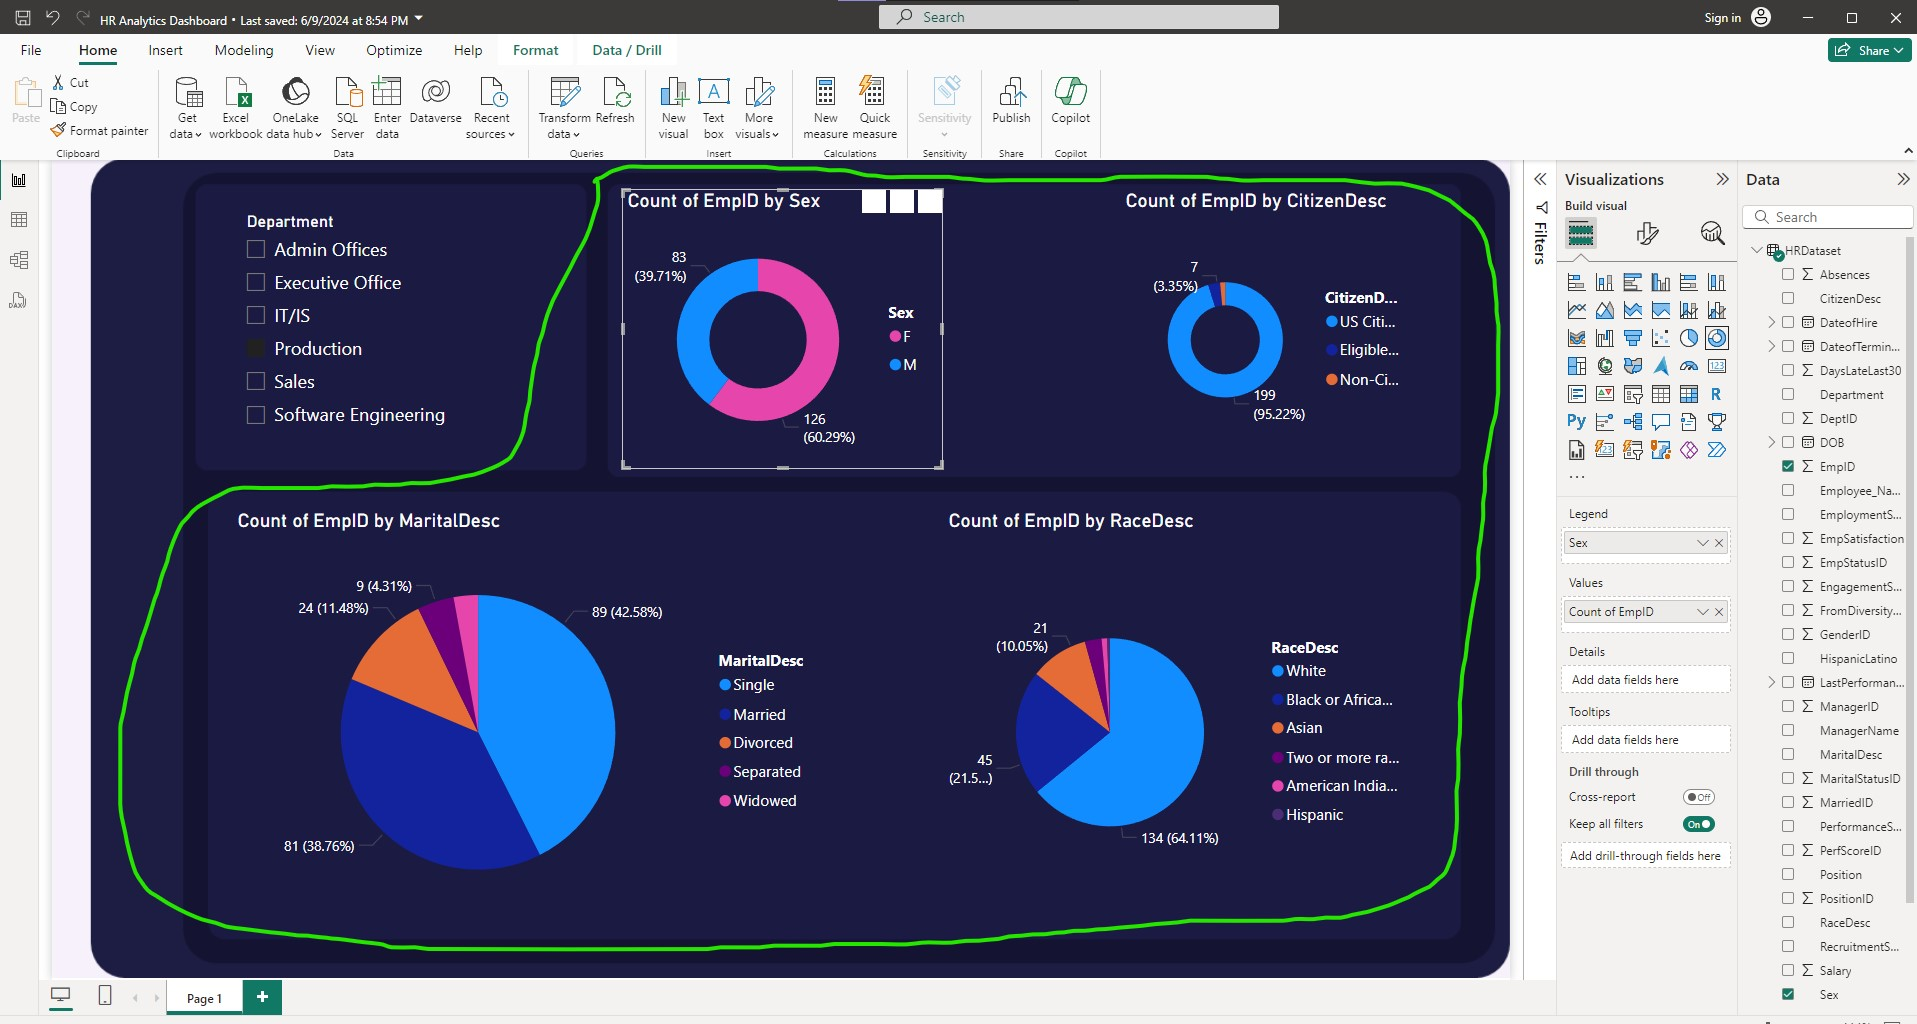

The page's visual inventory and layout, read from the dashboard file:
{"tool":"powerbi","page":{"name":"Page 1","canvas":[1280,720],"ordinal":0},"visuals":[{"type":"donutChart","fields":{"Y":["CountNonNull(HRDataset.EmpID)"],"Category":["HRDataset.Sex"]},"box":[500.5,25.5,281.9,245.9],"z":0},{"type":"pieChart","fields":{"Y":["CountNonNull(HRDataset.EmpID)"],"Category":["HRDataset.MaritalDesc"]},"box":[158,306.4,524.2,373.2],"z":1000},{"type":"donutChart","fields":{"Y":["CountNonNull(HRDataset.EmpID)"],"Category":["HRDataset.CitizenDesc"]},"box":[937.8,25.5,259.9,245.9],"z":2000},{"type":"pieChart","fields":{"Y":["CountNonNull(HRDataset.EmpID)"],"Category":["HRDataset.RaceDesc"]},"box":[782.3,306.4,415.3,373.2],"z":3000},{"type":"slicer","fields":{"Values":["HRDataset.Department"]},"box":[158,40.4,281.9,246.7],"z":4000},{"type":"actionButton","box":[58,25.5,100.1,40.4],"z":4001}]}

Visuals, with their boxes on the page's 1280x720 design canvas (x1, y1, x2, y2). These are canvas units, not pixel positions in the 1917x1024 screenshot, which may show the page scaled, cropped or inside an application window:
donutChart - CountNonNull(HRDataset.EmpID) x HRDataset.Sex: (500, 26, 782, 271)
pieChart - CountNonNull(HRDataset.EmpID) x HRDataset.MaritalDesc: (158, 306, 682, 680)
donutChart - CountNonNull(HRDataset.EmpID) x HRDataset.CitizenDesc: (938, 26, 1198, 271)
pieChart - CountNonNull(HRDataset.EmpID) x HRDataset.RaceDesc: (782, 306, 1198, 680)
slicer - HRDataset.Department: (158, 40, 440, 287)
actionButton: (58, 26, 158, 66)
